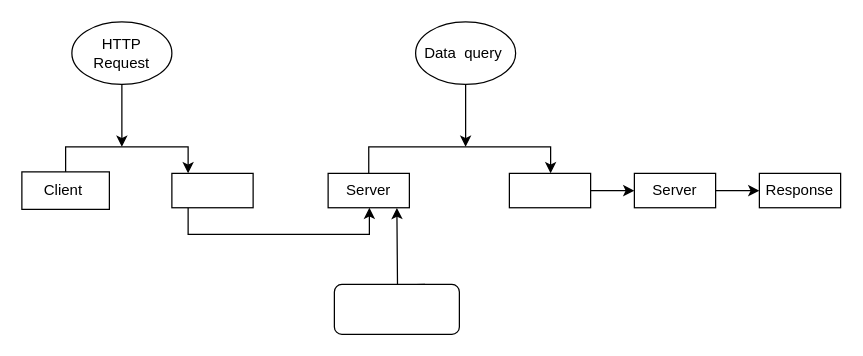
Some shapes in this 863 by 356 pixel diagram are drawn without their labels. The centre of each missing label's shape, as x and y in pixels:
DataBase: point 549,190
Internet: point 212,190
Processing Business Logic: point 396,308
